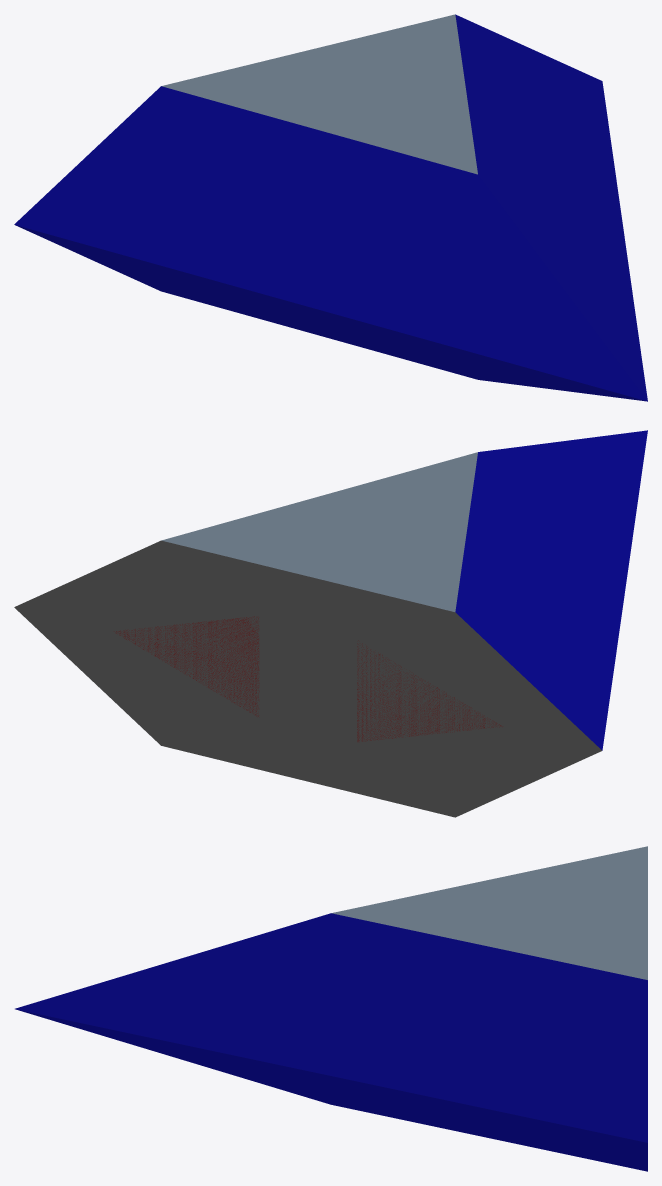
File: viper.obj
The picture shows the model from 3 angles, top to bottom: view 1: azimuth 30°, elevation 25°; view 2: azimuth 150°, elevation 25°; view 3: azimuth 270°, elevation 25°; orthographic projection. The views are drawn at different scales.
Bounding box in the file's own units: 96 × 32 × 96.
